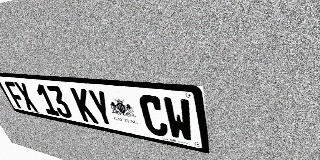1: (33, 84, 60, 116)
3: (46, 85, 73, 119)
C: (137, 94, 169, 138)
F: (3, 81, 28, 110)
K: (70, 87, 99, 124)
W: (162, 97, 195, 143)
X: (13, 82, 39, 112)
Y: (86, 89, 116, 127)
